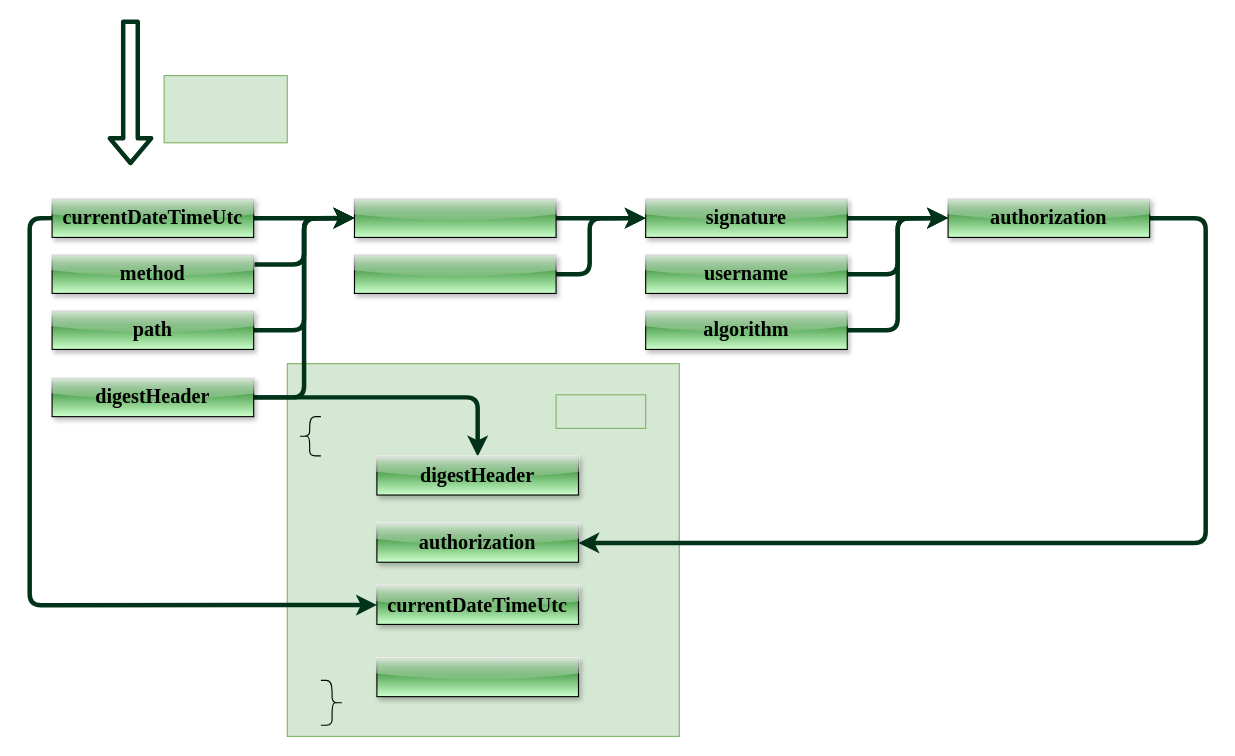
Some shapes in this 1235 by 756 pixel diagram are drawn without their labels. Here are the shapes that lost their labels. From the top down, the centre of each, then its label:
At point (225, 108): "Start of Algorithm".
At point (456, 219): "sigingString".
At point (456, 275): "secret".
At point (600, 411): "Headers".
At point (478, 678): "application/json".
